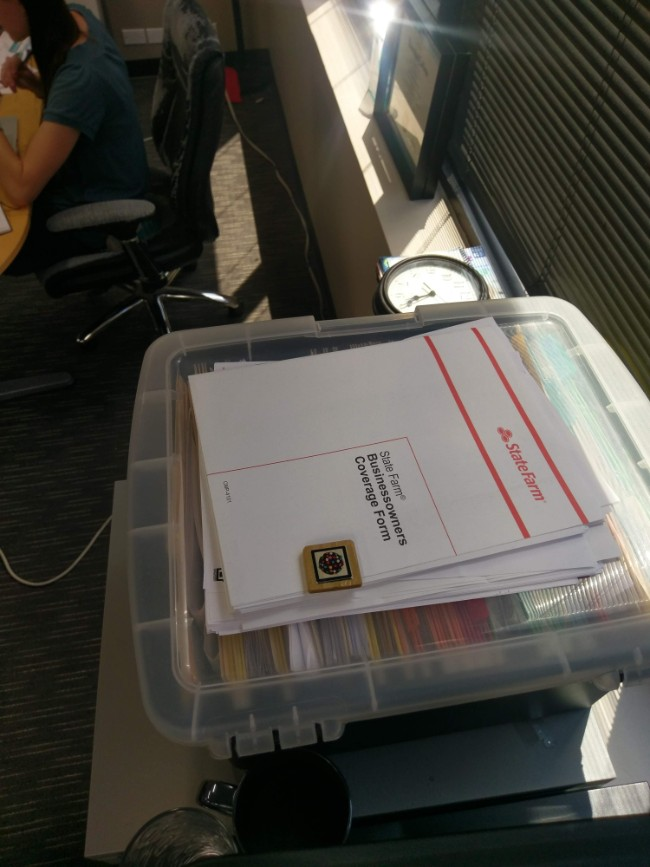cookie: (311, 545, 352, 583)
